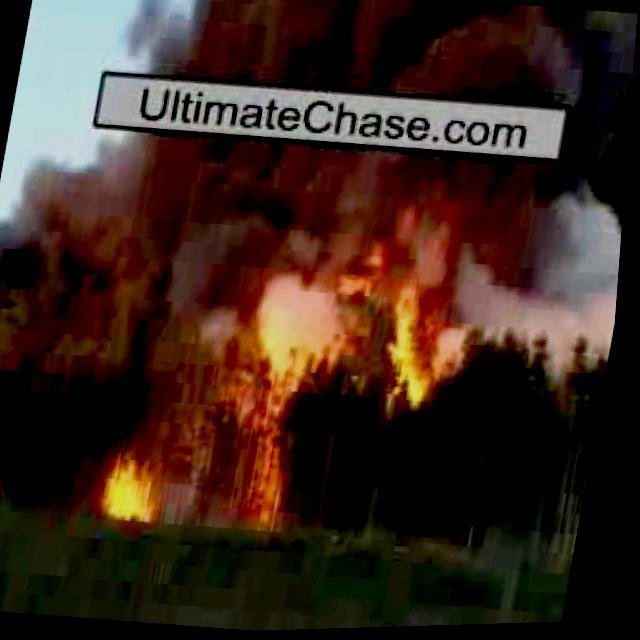Fire: (362, 236, 490, 413), (226, 381, 326, 536), (110, 458, 173, 530), (0, 467, 5, 511)
Smoke: (0, 106, 633, 381), (124, 0, 640, 122)
